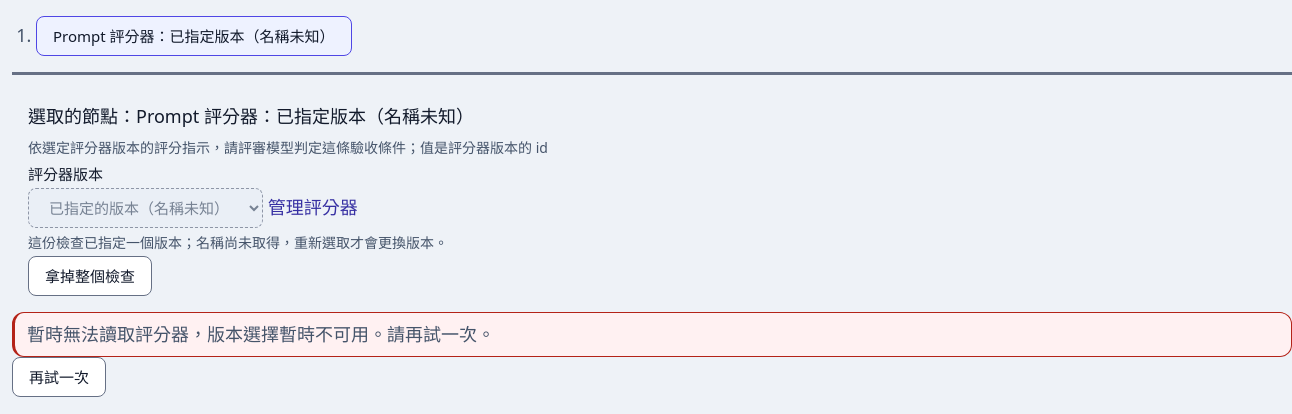
it: a failed grader refresh hides stale names without replacing the selected immutable version
The width and height of the screenshot is (1292, 414).
expect the dropdown labelled "評分器版本" is disabled: met, box [28,188,263,228]
expect the dropdown labelled "評分器版本" shows "已指定的版本（名稱未知）": met, box [28,188,263,228]
What coordinates should you click on to do the following:
click the button "再試一次"
I would click on:
 (59, 377)
Its box is [12,357,106,397].
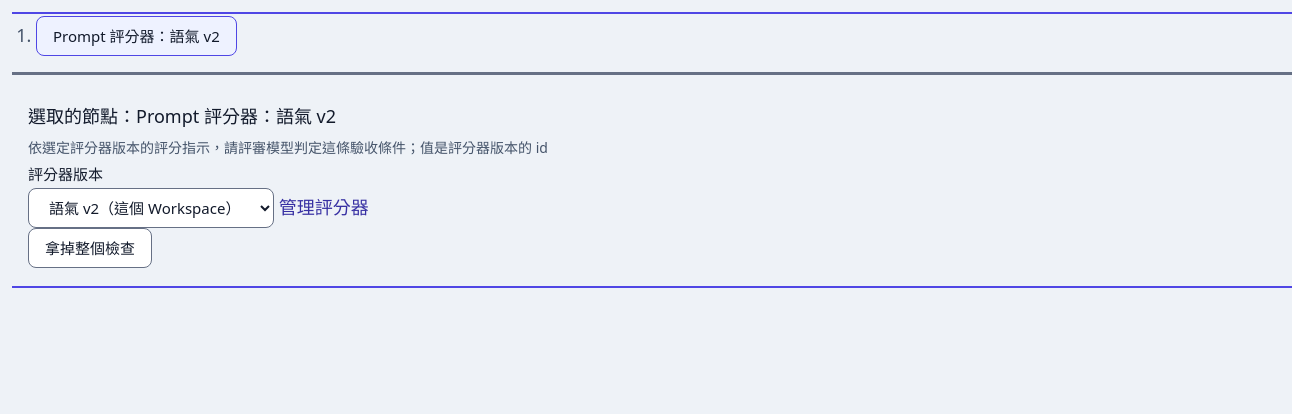
expect the dropdown labelled "評分器版本" shows "語氣 v2（這個 Workspace）": met, box [28,188,274,228]
expect the text "語氣 v2" is shown: met, box [36,16,237,56]
